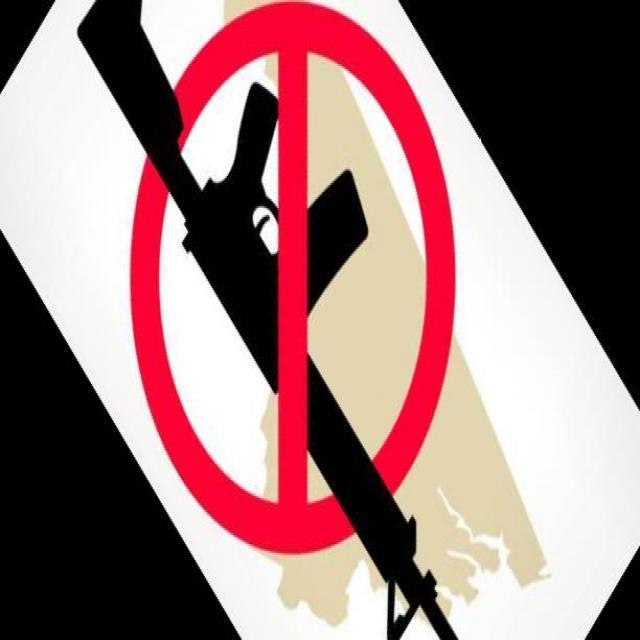weapon: (76, 1, 459, 640)
